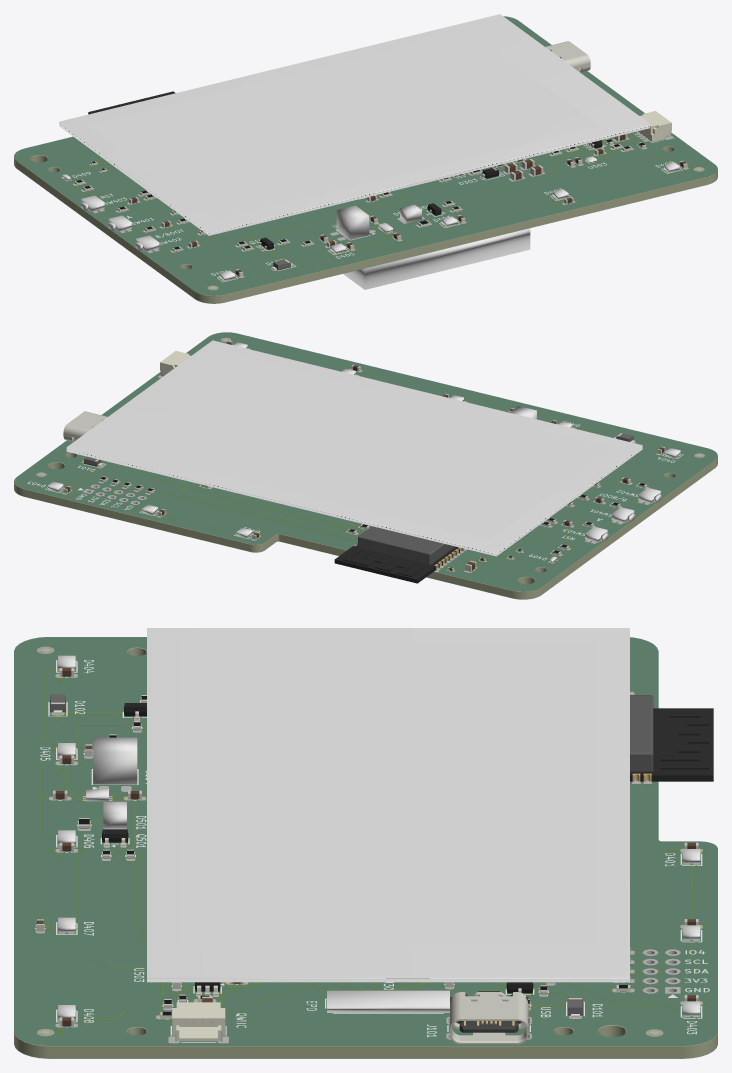
Rendered from board.glb.
3 views of the same model, one above another, from view 1: azimuth 30°, elevation 25°; view 2: azimuth 150°, elevation 25°; view 3: azimuth 270°, elevation 25° (orthographic). The views are drawn at different scales.
Parts seen in each view (by area): view 1: =>[0:1:1:55], =>[0:1:1:77], =>[0:1:1:79], =>[0:1:1:69], =>[0:1:1:73], =>[0:1:1:75], =>[0:1:1:41], =>[0:1:1:61], =>[0:1:1:47], =>[0:1:1:78]; view 2: =>[0:1:1:55], =>[0:1:1:77], =>[0:1:1:79], =>[0:1:1:23], =>[0:1:1:73], =>[0:1:1:75], =>[0:1:1:61], =>[0:1:1:78]; view 3: =>[0:1:1:55], =>[0:1:1:79], =>[0:1:1:77], =>[0:1:1:23], =>[0:1:1:61], =>[0:1:1:75], =>[0:1:1:57], =>[0:1:1:73], =>[0:1:1:41], =>[0:1:1:47], =>[0:1:1:72], =>[0:1:1:78] (+1 smaller).
Boxes of the visible parts, bbox=[...] form: =>[0:1:1:55]: bbox=[59, 14, 649, 235]; =>[0:1:1:77]: bbox=[14, 16, 717, 295]; =>[0:1:1:79]: bbox=[14, 17, 717, 303]; =>[0:1:1:69]: bbox=[343, 228, 530, 289]; =>[0:1:1:73]: bbox=[61, 133, 701, 289]; =>[0:1:1:75]: bbox=[72, 131, 682, 282]; =>[0:1:1:41]: bbox=[336, 205, 369, 239]; =>[0:1:1:61]: bbox=[545, 41, 590, 72]; =>[0:1:1:47]: bbox=[636, 111, 671, 141]; =>[0:1:1:78]: bbox=[14, 166, 716, 303]; =>[0:1:1:55]: bbox=[66, 340, 642, 556]; =>[0:1:1:77]: bbox=[14, 332, 717, 591]; =>[0:1:1:79]: bbox=[14, 333, 717, 599]; =>[0:1:1:23]: bbox=[334, 526, 463, 583]; =>[0:1:1:73]: bbox=[39, 339, 702, 572]; =>[0:1:1:75]: bbox=[27, 348, 683, 571]; =>[0:1:1:61]: bbox=[63, 411, 107, 441]; =>[0:1:1:78]: bbox=[14, 465, 717, 599]; =>[0:1:1:55]: bbox=[147, 628, 629, 982]; =>[0:1:1:79]: bbox=[14, 638, 717, 1058]; =>[0:1:1:77]: bbox=[14, 637, 717, 1045]; =>[0:1:1:23]: bbox=[630, 695, 713, 781]; =>[0:1:1:61]: bbox=[450, 992, 528, 1044]; =>[0:1:1:75]: bbox=[35, 660, 709, 1042]; =>[0:1:1:57]: bbox=[327, 990, 449, 1012]; =>[0:1:1:73]: bbox=[36, 648, 702, 1043]; =>[0:1:1:41]: bbox=[93, 737, 137, 784]; =>[0:1:1:47]: bbox=[172, 1002, 225, 1041]; =>[0:1:1:72]: bbox=[35, 669, 708, 1035]; =>[0:1:1:78]: bbox=[14, 1044, 717, 1058].
Bounding box in the file's own units: 0.11 × 0.0141 × 0.08.
